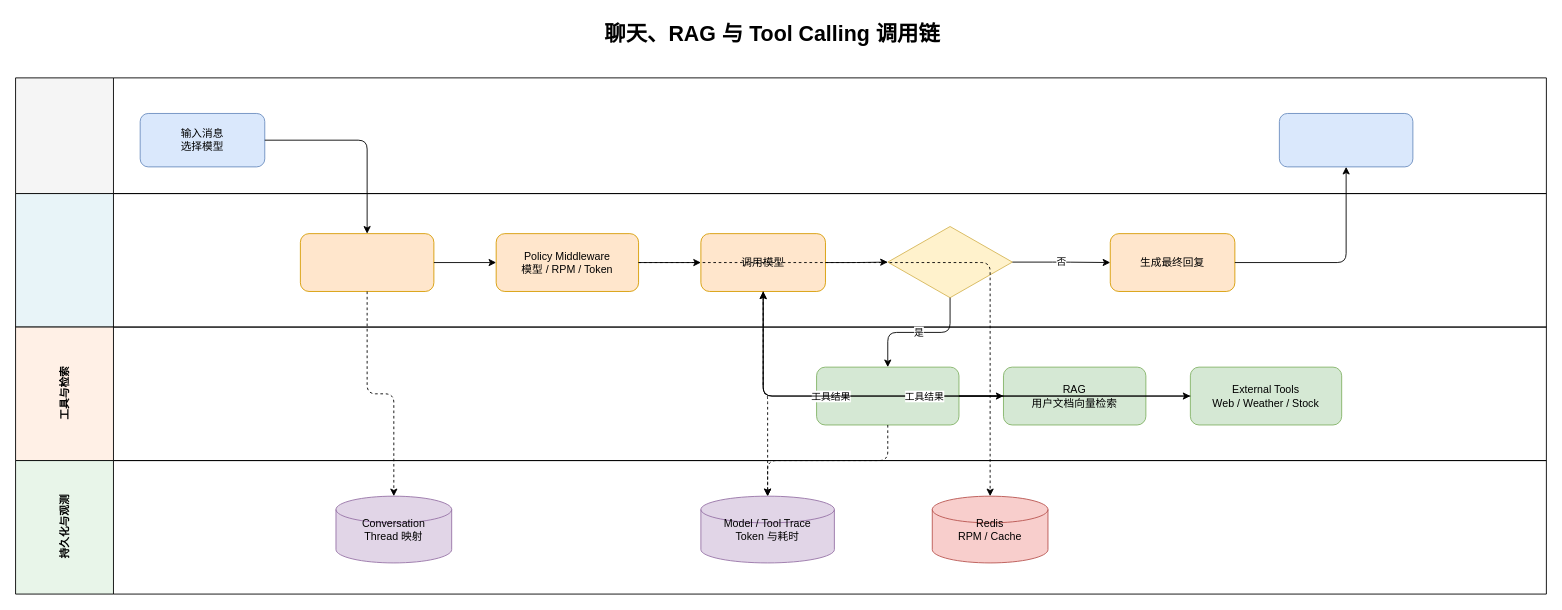
Image size: 1562x610. Some labels were removed from this diagram. Here are the shapes that lost their labels. From the top down, the box of each, then its label:
(15, 77, 1546, 194): 用户 / UI
(1278, 113, 1413, 167): 接收 SSE 渲染消息与 Tool
(299, 233, 434, 291): JWT Authenticate Thread owner
(15, 193, 1546, 327): Agent Server
(887, 226, 1012, 298): 需要工具？
(816, 366, 959, 425): Tool Policy 高成本 / 工作区权限
